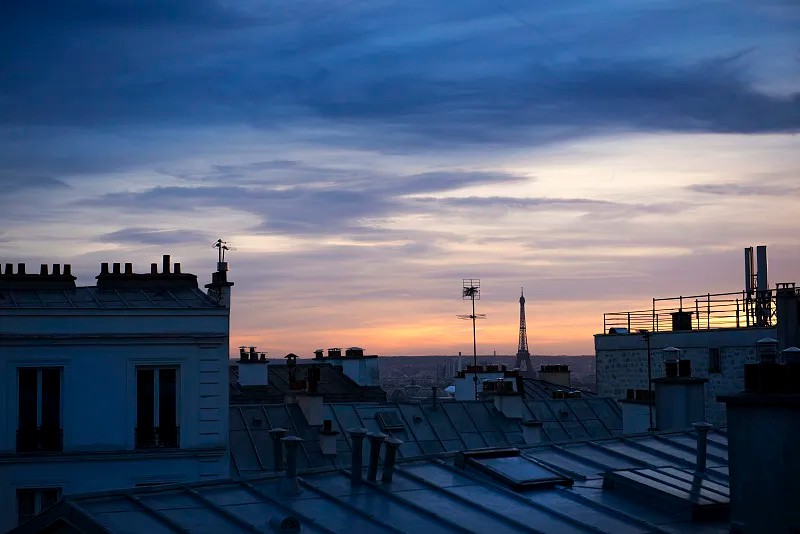Eiffel: (514, 287, 531, 370)
